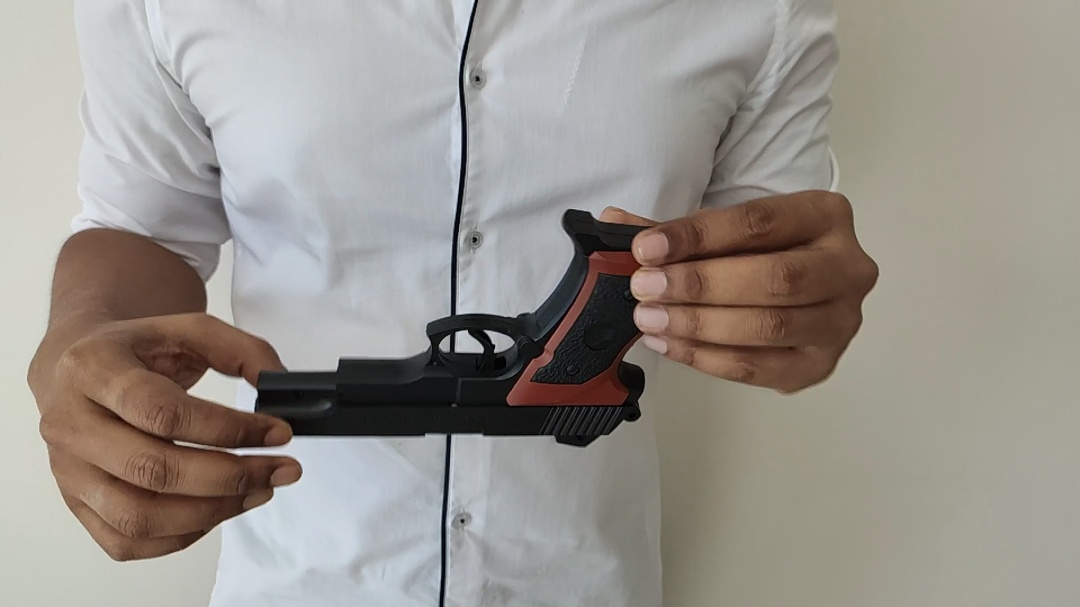gun: (254, 207, 651, 449)
